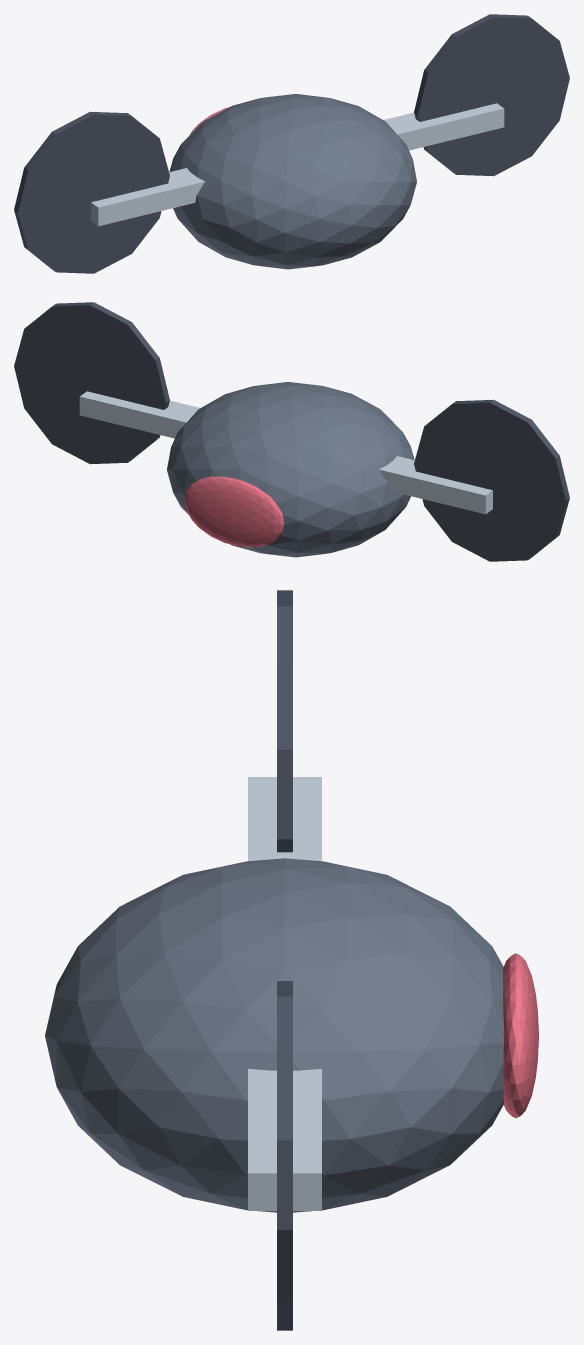
File: drone_enemigo.glb
The picture shows the model from 3 angles, top to bottom: view 1: azimuth 30°, elevation 25°; view 2: azimuth 150°, elevation 25°; view 3: azimuth 270°, elevation 25°; orthographic projection. The views are drawn at different scales.
Visible parts, largest first — view 1: DroneChassis_1, Rotor_4, Rotor_6, DroneWing_3, DroneWing_5; view 2: DroneChassis_1, Rotor_4, Rotor_6, DroneEye_2, DroneWing_3, DroneWing_5; view 3: DroneChassis_1, DroneWing_5, Rotor_6, DroneEye_2, DroneWing_3, Rotor_4.
Boxes of the visible parts, x1,y1,x2,y2 form: DroneChassis_1: [169, 94, 416, 269]; Rotor_4: [14, 111, 169, 273]; Rotor_6: [414, 14, 569, 176]; DroneWing_3: [91, 168, 204, 226]; DroneWing_5: [383, 103, 504, 150]; DroneChassis_1: [167, 382, 414, 557]; Rotor_4: [414, 399, 569, 561]; Rotor_6: [14, 302, 169, 464]; DroneEye_2: [184, 476, 284, 547]; DroneWing_3: [379, 456, 492, 514]; DroneWing_5: [79, 391, 200, 438]; DroneChassis_1: [45, 858, 503, 1212]; DroneWing_5: [248, 1068, 321, 1210]; Rotor_6: [277, 981, 292, 1330]; DroneEye_2: [503, 953, 538, 1118]; DroneWing_3: [248, 777, 321, 861]; Rotor_4: [277, 590, 292, 852].
Bounding box in the file's own units: 2.76 × 0.9 × 1.07.
